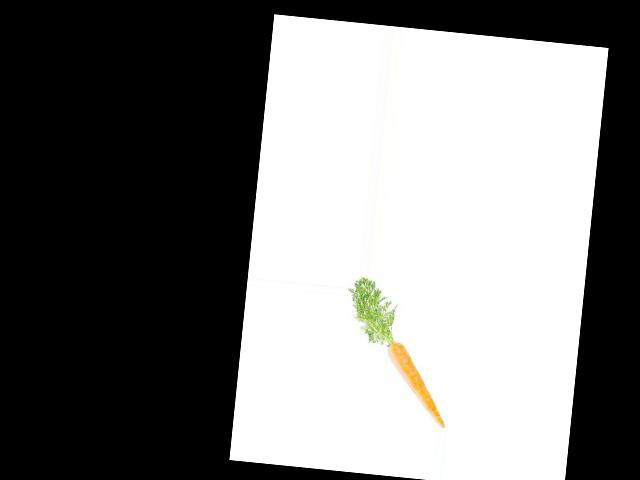carrot: (379, 338, 455, 429)
